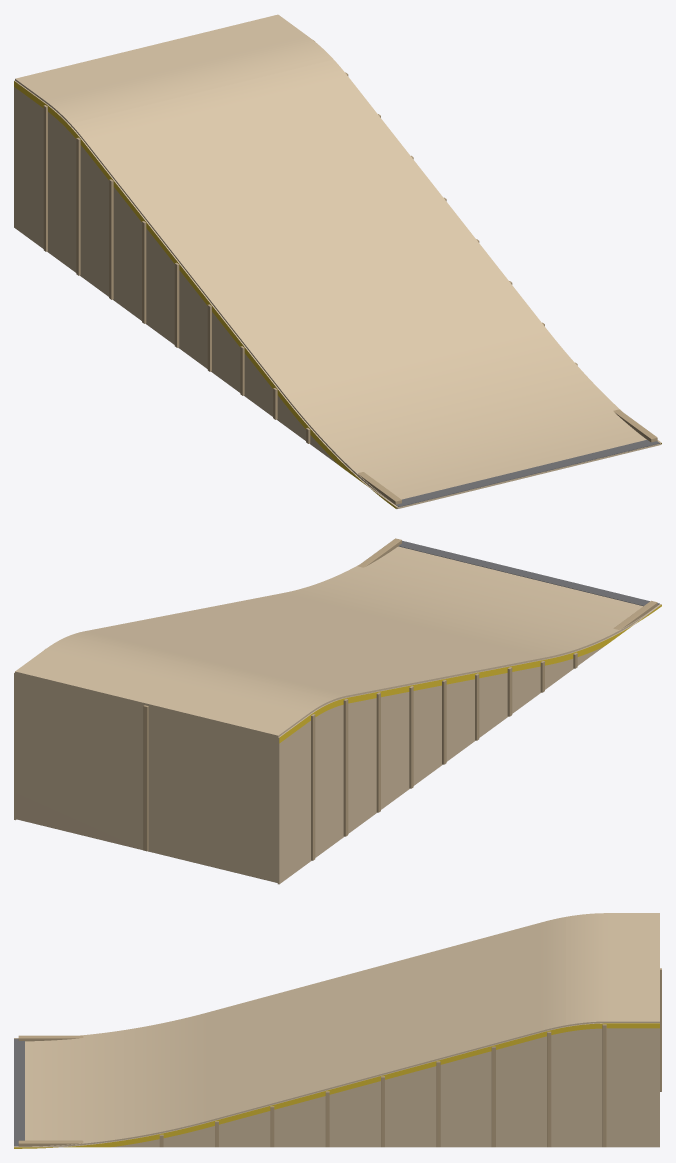
Rendered from ramp_landing.glb.
3 renders of one model, top to bottom at view 1: azimuth 30°, elevation 25°; view 2: azimuth 150°, elevation 25°; view 3: azimuth 270°, elevation 25°, orthographic. The views are drawn at different scales.
Parts seen in each view (by area): view 1: SM_ramp_landing; view 2: SM_ramp_landing; view 3: SM_ramp_landing.
Part boxes in pixels (left/top/right/bottom): SM_ramp_landing: left=14, top=14, right=661, bottom=508; SM_ramp_landing: left=14, top=538, right=661, bottom=884; SM_ramp_landing: left=14, top=913, right=661, bottom=1148.
Bounding box in the file's own units: 2.85 × 1.52 × 7.02.
